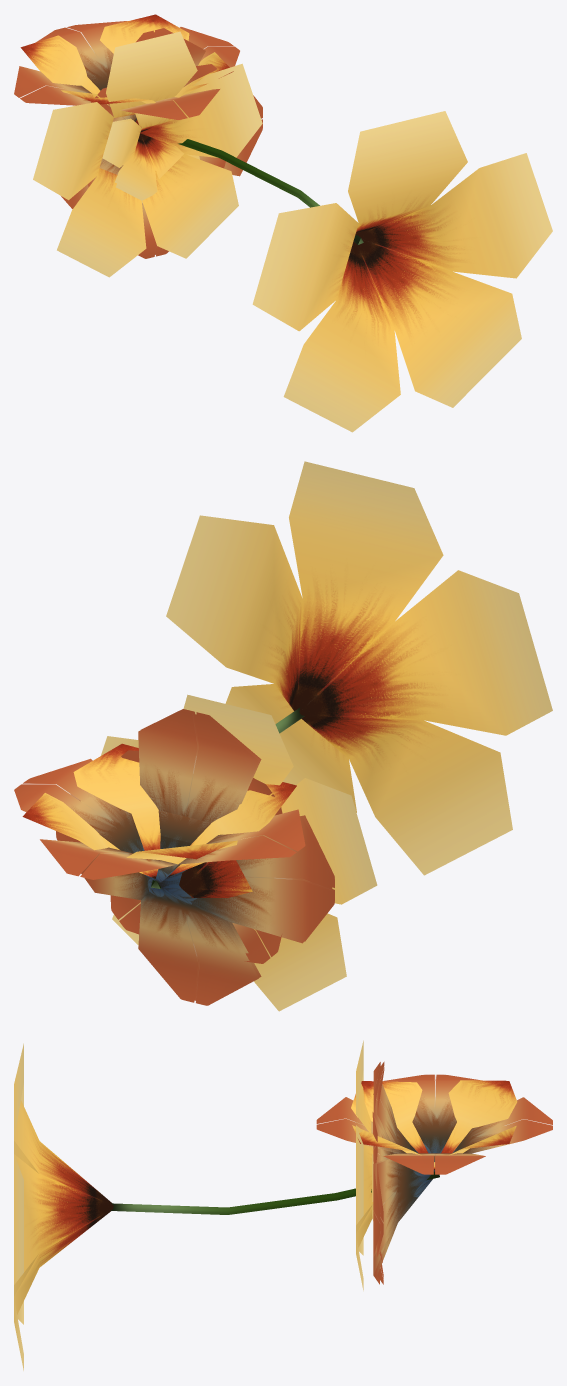
File: stylized_flowers_stage2.glb
The picture shows the model from 3 angles, top to bottom: view 1: azimuth 30°, elevation 25°; view 2: azimuth 150°, elevation 25°; view 3: azimuth 270°, elevation 25°; orthographic projection. The views are drawn at different scales.
Parts seen in each view (by area): view 1: Stage5, Stage4, Stage2, Stage3, Stage1; view 2: Stage5, Stage3, Stage4, Stage2, Stage1; view 3: Stage5, Stage2, Stage1, Stage3, Stage4.
Part boxes in pixels (box(x1,y1,x2,y2)): Stage5: box(178, 111, 552, 432); Stage4: box(33, 29, 262, 277); Stage2: box(14, 21, 239, 119); Stage3: box(61, 28, 225, 254); Stage1: box(20, 14, 233, 105); Stage5: box(151, 461, 552, 888); Stage3: box(56, 710, 332, 1005); Stage4: box(101, 694, 377, 1011); Stage2: box(14, 758, 305, 882); Stage1: box(22, 743, 296, 878); Stage5: box(14, 1043, 439, 1370); Stage2: box(316, 1074, 552, 1174); Stage1: box(351, 1080, 517, 1169); Stage3: box(372, 1061, 432, 1284); Stage4: box(356, 1040, 396, 1291).
Size of the model in its own units: 3.41 by 2.85 by 4.87.
Materials: 1 (1 with a texture image).
